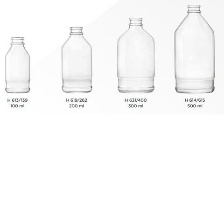bottle: (172, 3, 220, 95), (111, 12, 160, 97), (57, 22, 94, 94), (2, 32, 32, 94)
